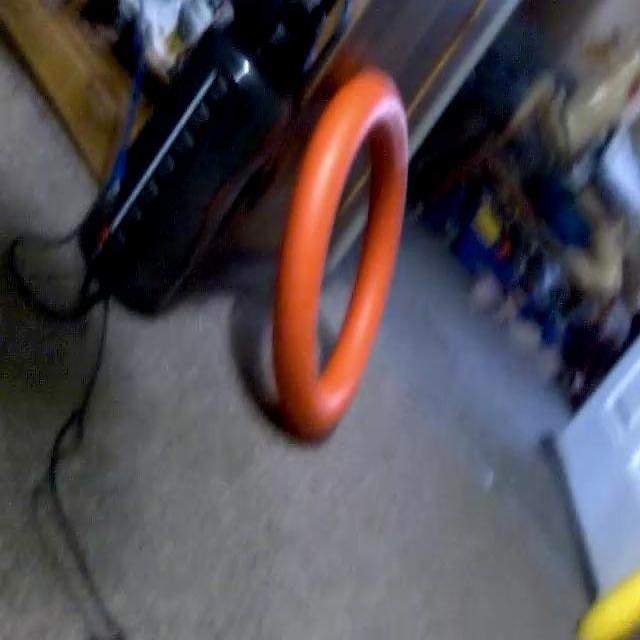note: (271, 67, 410, 448)
